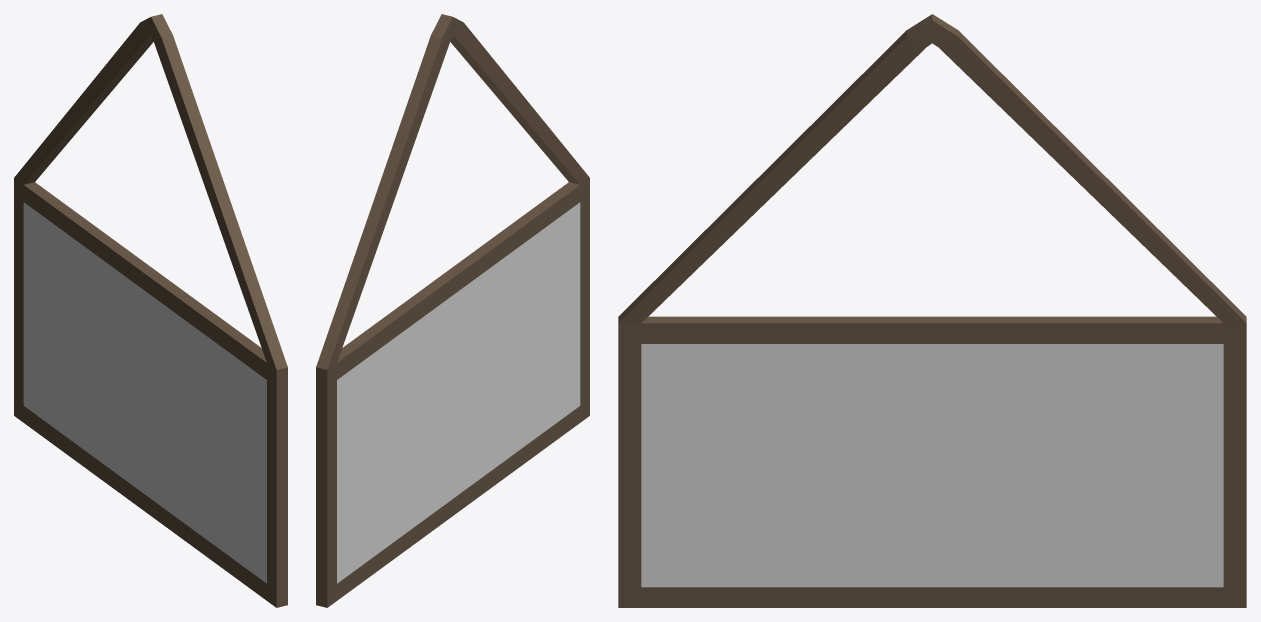
File: Open_close_sign.fbx
3 renders of one model, left to right at view 1: azimuth 30°, elevation 25°; view 2: azimuth 150°, elevation 25°; view 3: azimuth 270°, elevation 25°, orthographic. The views are drawn at different scales.
Parts seen in each view (by area): view 1: Open_close_sign; view 2: Open_close_sign; view 3: Open_close_sign.
Boxes of the visible parts, x1,y1,x2,y2 form: Open_close_sign: (14,14,287,607); Open_close_sign: (316,14,589,607); Open_close_sign: (618,14,1246,607).
Size of the model in its own units: 0.9687 by 26.8 by 25.83.
